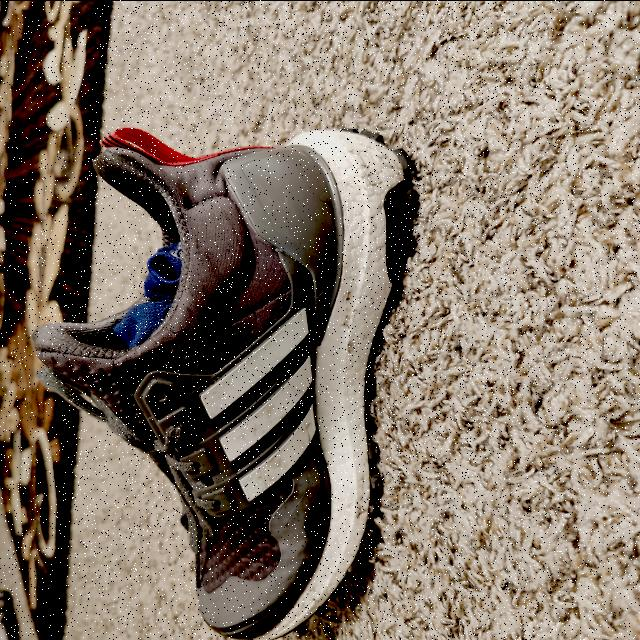black shoes: (31, 132, 410, 640)
